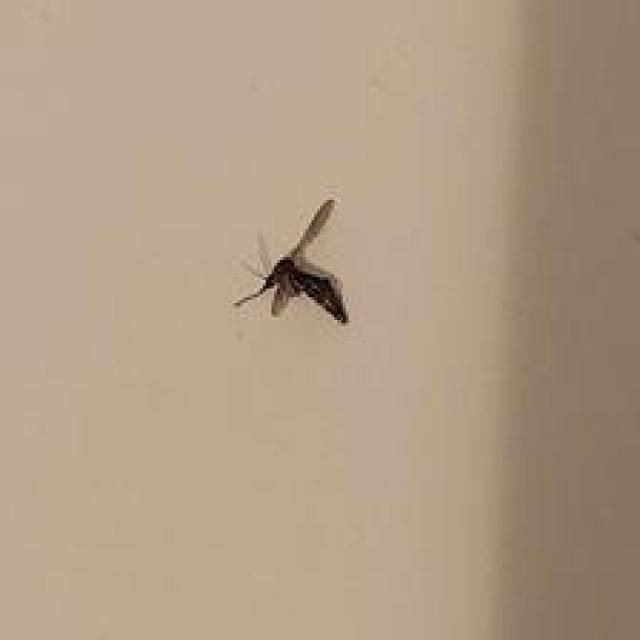Aedes albopictus: (232, 197, 348, 326)
